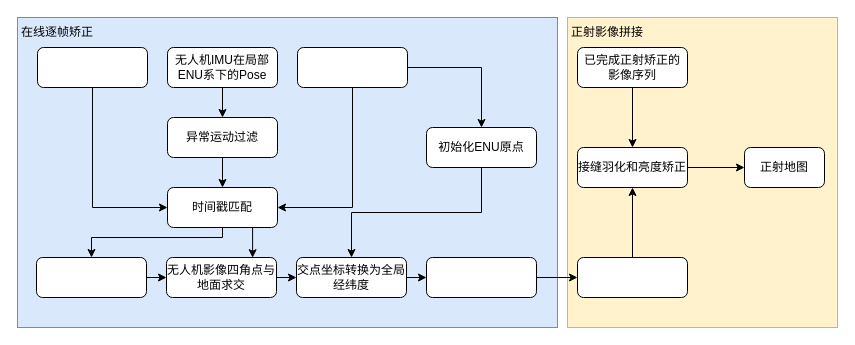
Some shapes in this 855 by 345 pixel diagram are drawn without their labels. Here are the shapes that lost their labels. From the top down, the centre of each, then its label:
At point 92,67: "无人机影像".
At point 352,67: "无人机IMU的 全局经纬度".
At point 91,277: "计算无人机相机在局部ENU下的Pose".
At point 481,277: "建立地面网格，并重投影回影像".
At point 632,277: "正射矫正后的 无人机影像".
